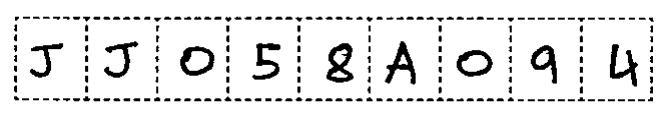0: (173, 39, 222, 83), (452, 45, 500, 84)
4: (600, 39, 644, 91)
5: (249, 38, 285, 85)
8: (318, 38, 362, 89)
9: (526, 40, 567, 88)
A: (380, 38, 421, 92)
J: (96, 38, 146, 83), (22, 38, 70, 84)
